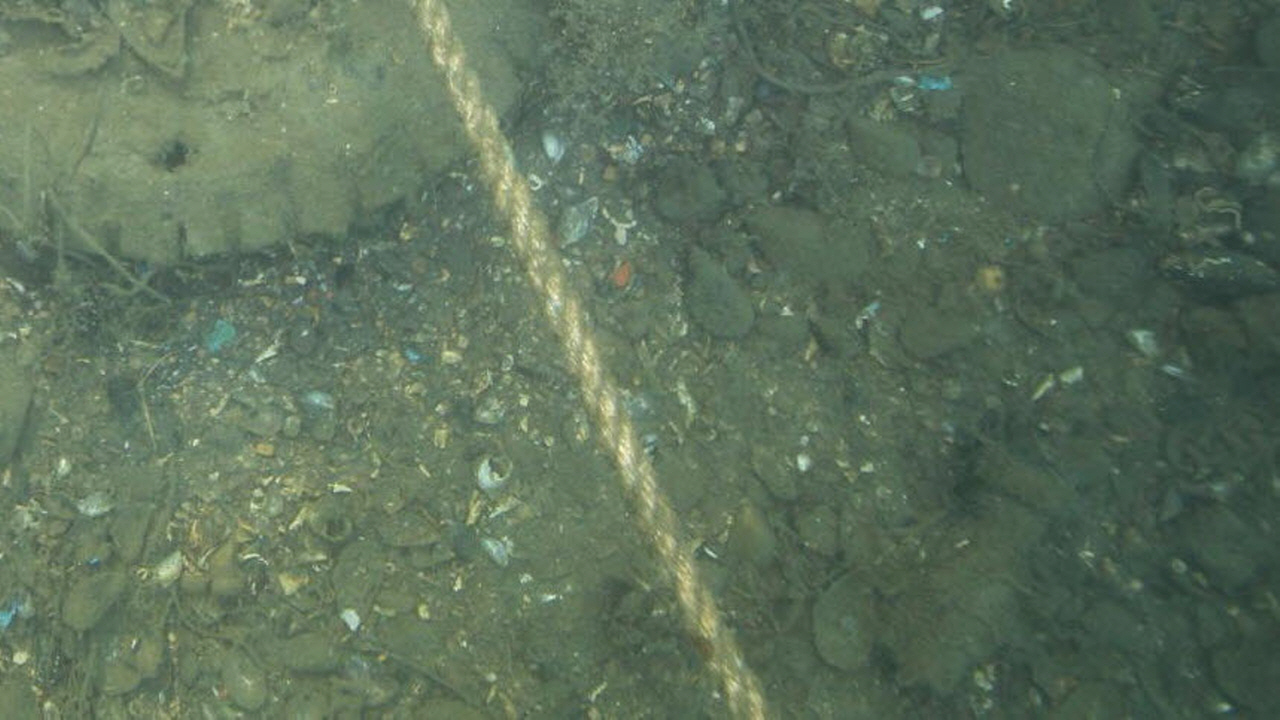rope: (404, 0, 768, 720)
